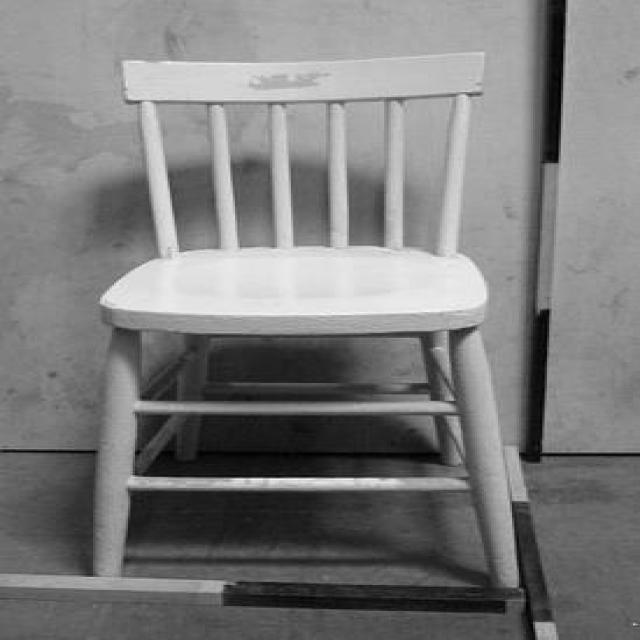chair: (96, 58, 520, 584)
